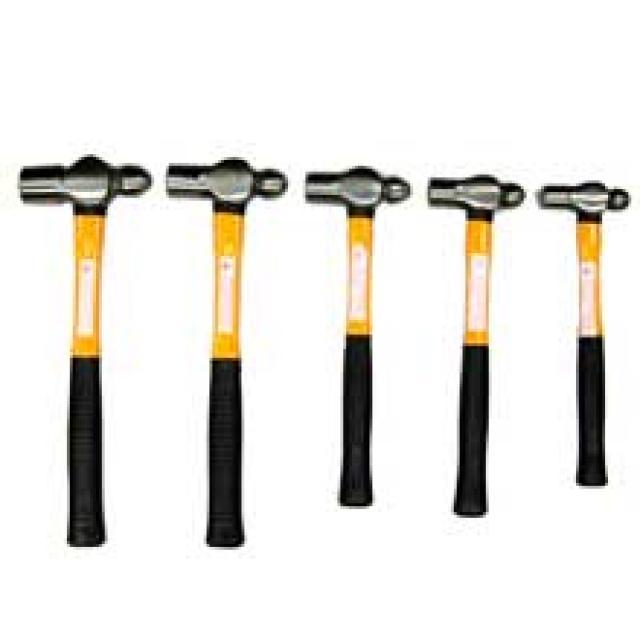hammer: (12, 145, 158, 554), (162, 148, 296, 556), (297, 154, 418, 518), (421, 167, 536, 522), (530, 172, 636, 494)
